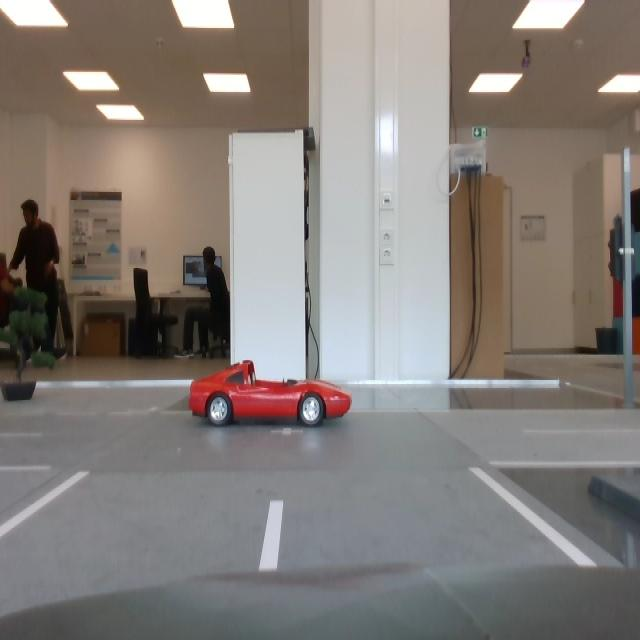car: (189, 360, 353, 428)
potted plant: (1, 285, 59, 400)
traffic light: (607, 216, 630, 285)
